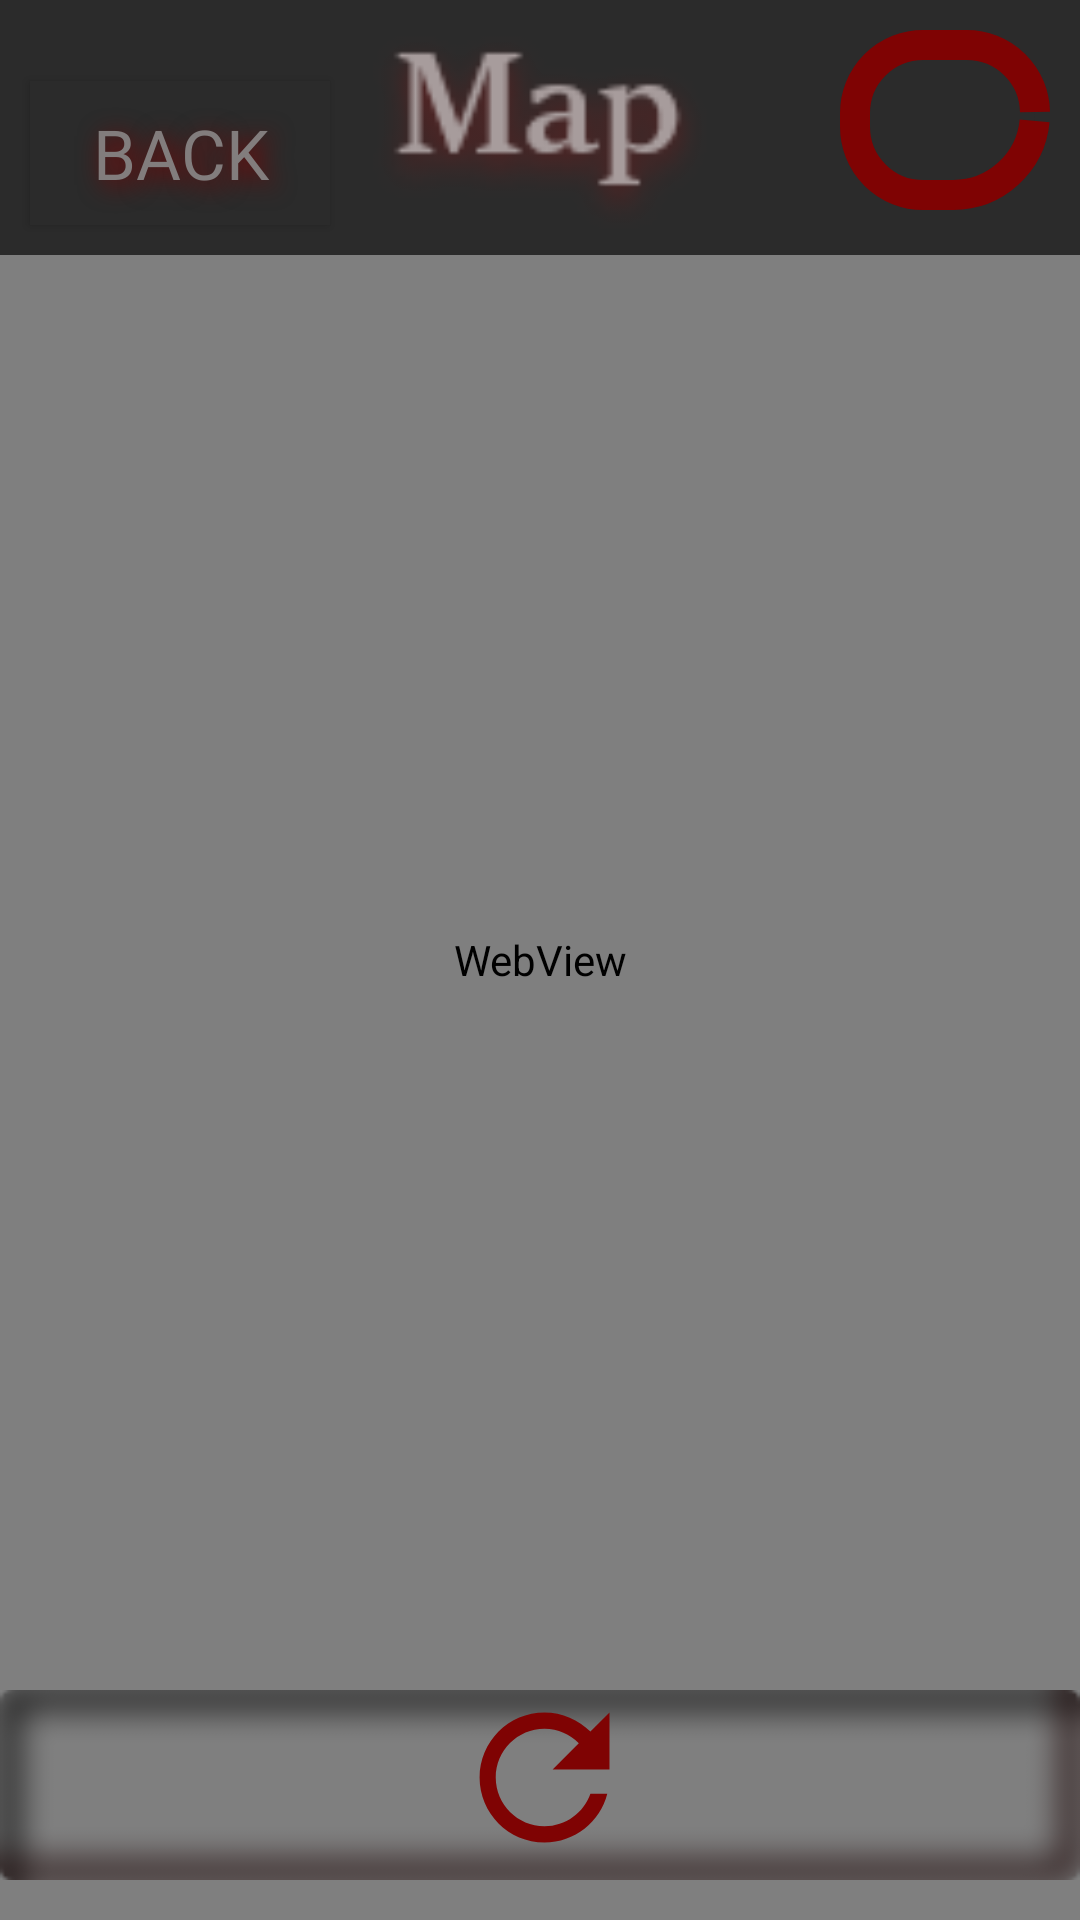

Point at icon controls on the screen. Image size 1080*1920, points as (x=x, y=y).
refreshbtn: (x=544, y=1785)
